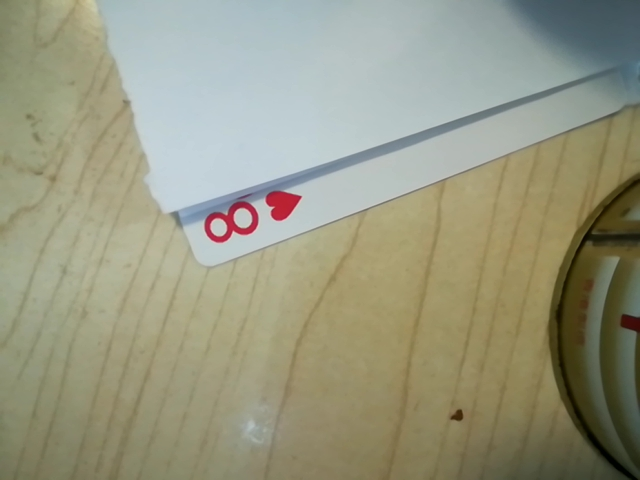hx 8: (188, 182, 303, 252)
